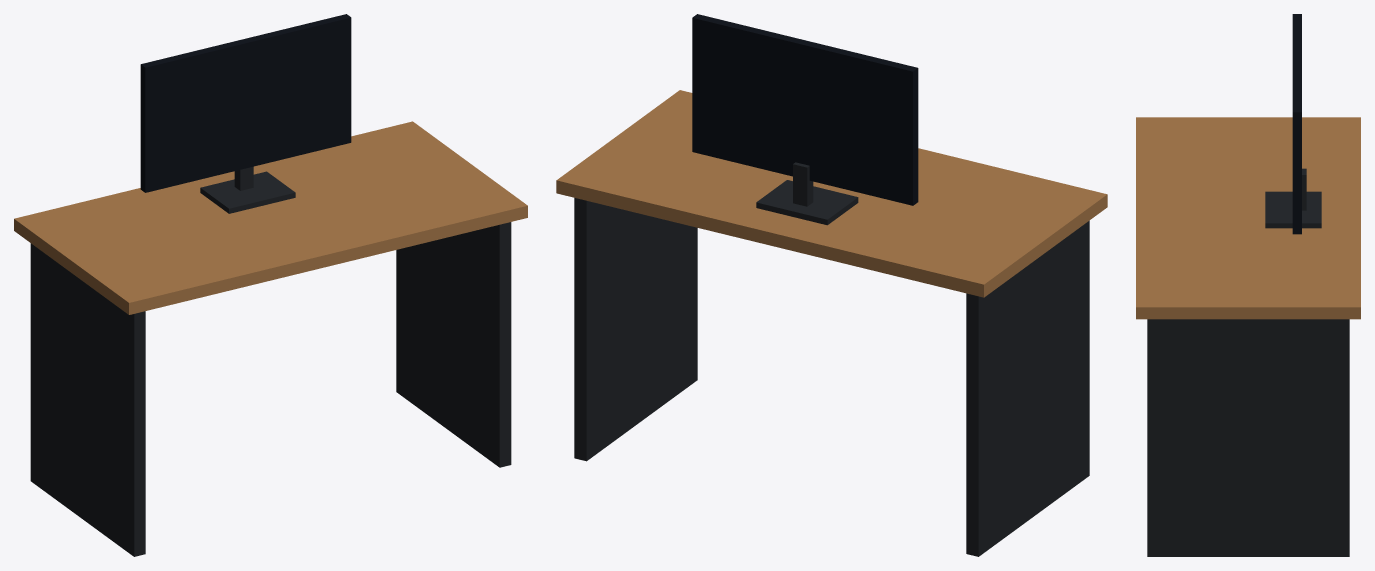
Rendered from study_desk.glb.
The picture shows the model from 3 angles, left to right: view 1: azimuth 30°, elevation 25°; view 2: azimuth 150°, elevation 25°; view 3: azimuth 270°, elevation 25°; orthographic projection. The views are drawn at different scales.
Size of the model in its own units: 1.2 by 1.19 by 0.6.
